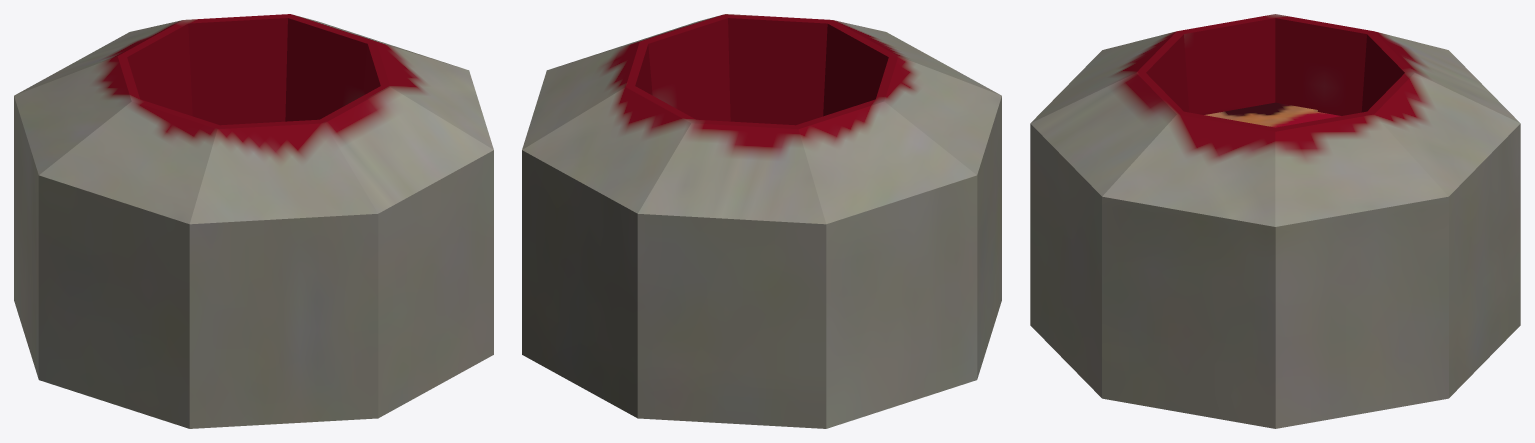
The model's file is energy_pit.glb.
3 renders of one model, left to right at view 1: azimuth 30°, elevation 25°; view 2: azimuth 150°, elevation 25°; view 3: azimuth 270°, elevation 25°, orthographic.
Parts seen in each view (by area): view 1: Cylinder; view 2: Cylinder; view 3: Cylinder, Cylinder.002.
Part boxes in pixels (left/top/right/bottom): Cylinder: left=14, top=14, right=493, bottom=428; Cylinder: left=522, top=14, right=1001, bottom=428; Cylinder: left=1030, top=14, right=1520, bottom=428; Cylinder.002: left=1204, top=102, right=1340, bottom=127.
Bounding box in the file's own units: 3.52 × 2 × 3.52.
Materials: 2 (2 with a texture image).
